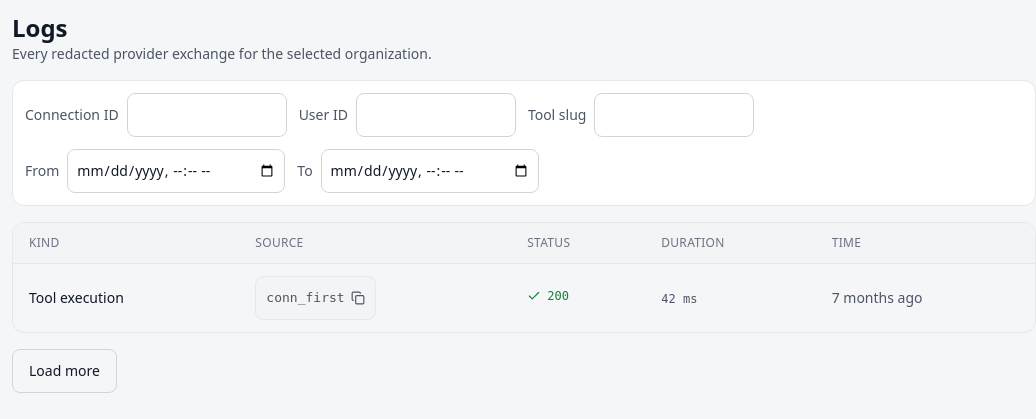
Test: LogsPage › fetches the next page via nextCursor when Load more is clicked, appending rows
The image size is (1036, 419).
Expected: the text "conn_first" is shown, [266,289,345,307]
Click the button "Load more".
click(64, 371)  # box [12,349,117,393]
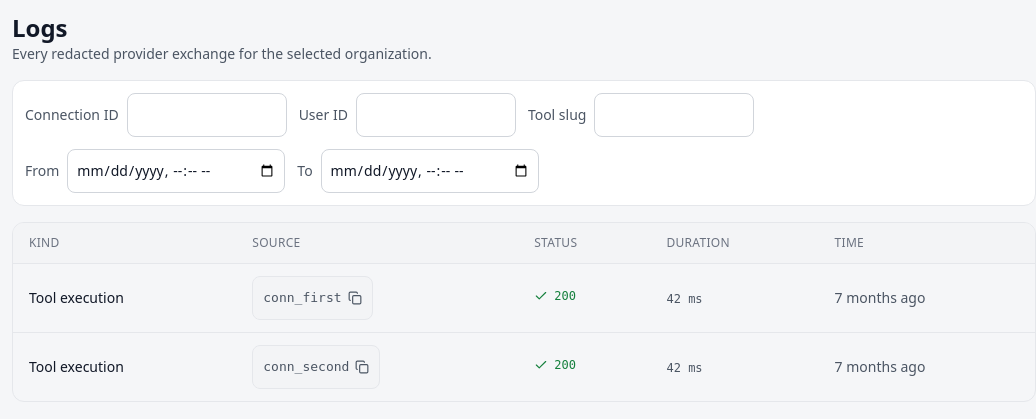
Expected: the text "conn_second" is shown, [263,358,349,376]
Expected: the button "Load more" is gone
